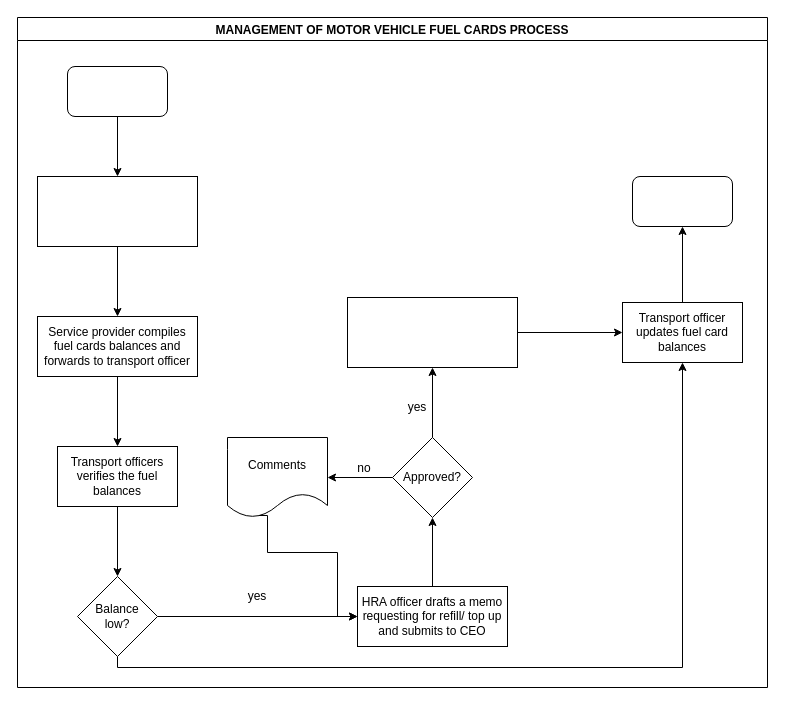
The diagram is 785 pixels wide and 705 high, and some of its shapes have lost their labels. The shapes that lost their labels are listed below. From the top down, each one's centre as x and y in pixels, then its label:
point 117,91: Start
point 117,211: Transport officer requests for fuel card balances from service provider
point 682,201: End
point 432,332: Transport officer forwards the memo to procurement for processing of fuel top up
